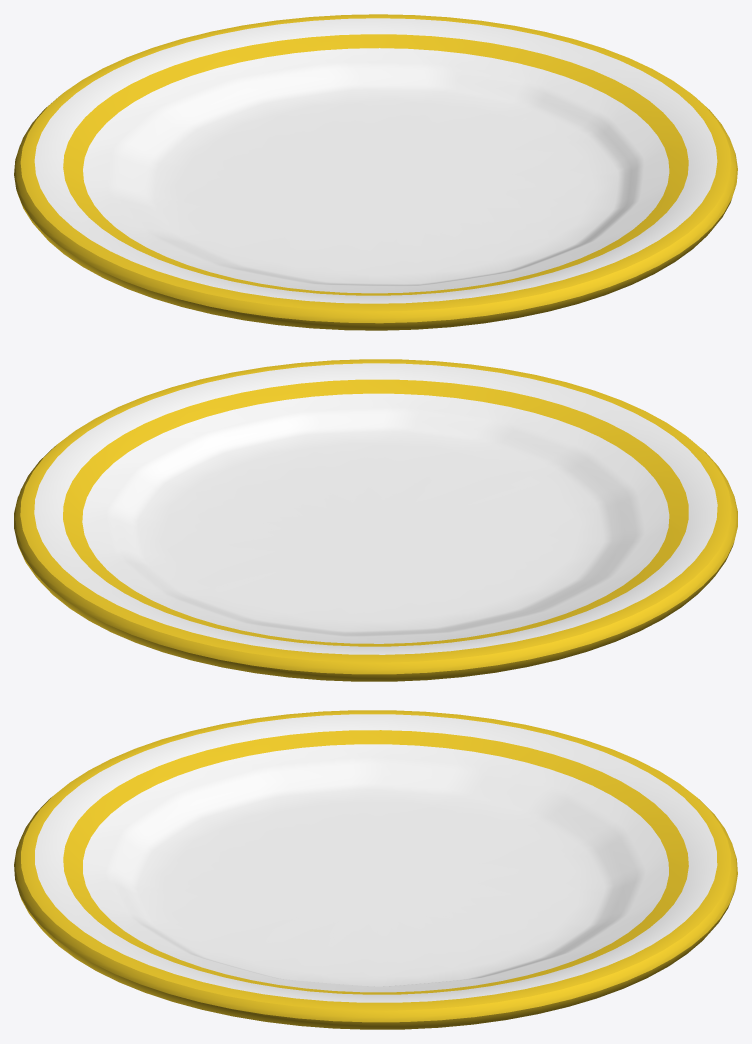
File: YellowPlate.fbx
3 views of the same model, one above another, from view 1: azimuth 30°, elevation 25°; view 2: azimuth 150°, elevation 25°; view 3: azimuth 270°, elevation 25° (orthographic).
Parts seen in each view (by area): view 1: Plate4; view 2: Plate4; view 3: Plate4.
Part boxes in pixels (<box>): Plate4: <box>14,14,737,330</box>; Plate4: <box>14,359,737,681</box>; Plate4: <box>14,710,737,1029</box>.
Size of the model in its own units: 24.29 by 2.21 by 24.29.
Materials: 1 (1 with a texture image).
